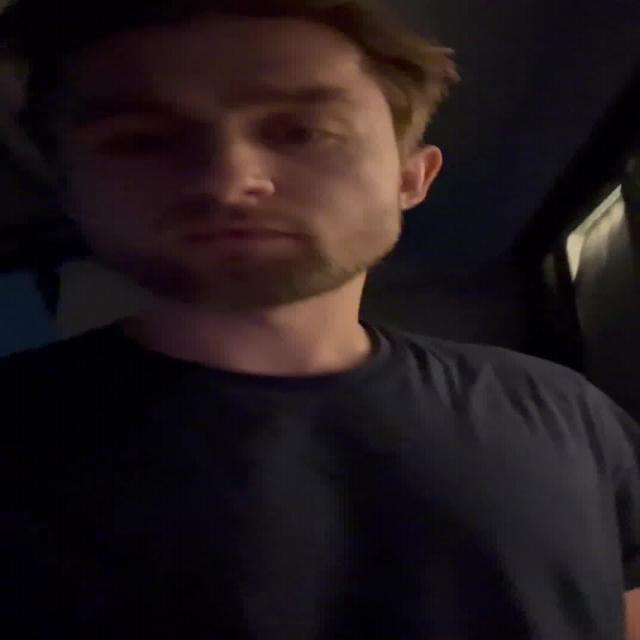earlobe: (398, 188, 425, 210)
eye: (97, 135, 182, 155), (260, 125, 340, 143)
nose: (186, 194, 277, 226)
wholeear: (398, 144, 442, 210)
